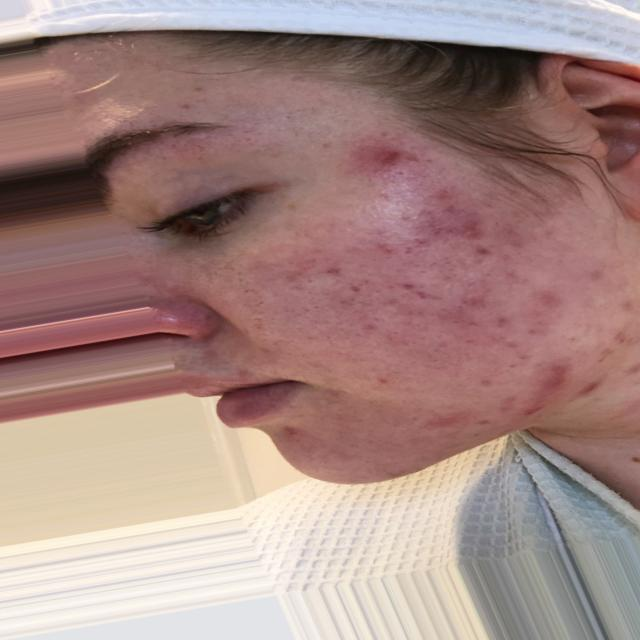acne: (350, 254, 450, 326), (524, 274, 626, 344), (403, 184, 494, 254), (342, 130, 447, 184), (532, 360, 596, 402)
